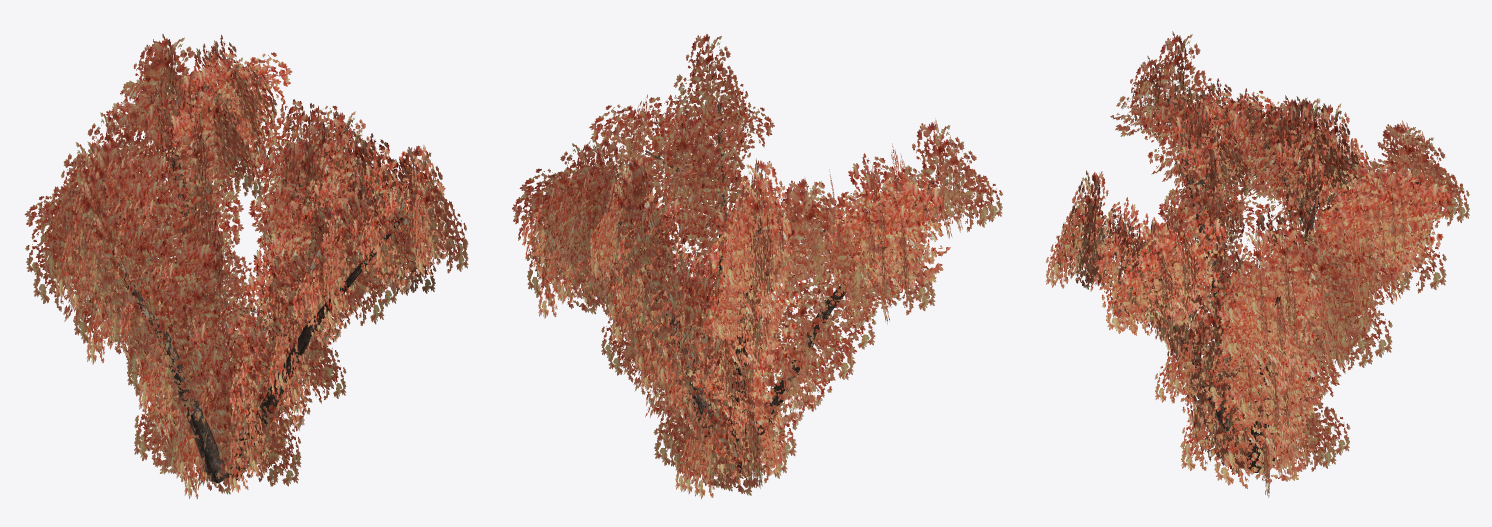
Rendered from bush_3d_03_copper_lod0.glb.
3 views of the same model, side by side, from view 1: azimuth 30°, elevation 25°; view 2: azimuth 150°, elevation 25°; view 3: azimuth 270°, elevation 25° (orthographic). The views are drawn at different scales.
Visible parts, largest first — view 1: foliage_cards, wood_geometry; view 2: foliage_cards, wood_geometry; view 3: foliage_cards, wood_geometry.
Boxes of the visible parts, x1=… form: foliage_cards: x1=24, y1=34, x2=468, y2=498; wood_geometry: x1=69, y1=81, x2=403, y2=483; foliage_cards: x1=512, y1=34, x2=1002, y2=498; wood_geometry: x1=582, y1=103, x2=934, y2=475; foliage_cards: x1=1045, y1=31, x2=1469, y2=497; wood_geometry: x1=1097, y1=98, x2=1420, y2=472.
Bounding box in the file's own units: 2.39 × 2.09 × 2.27.
2 materials, 2 textured.
